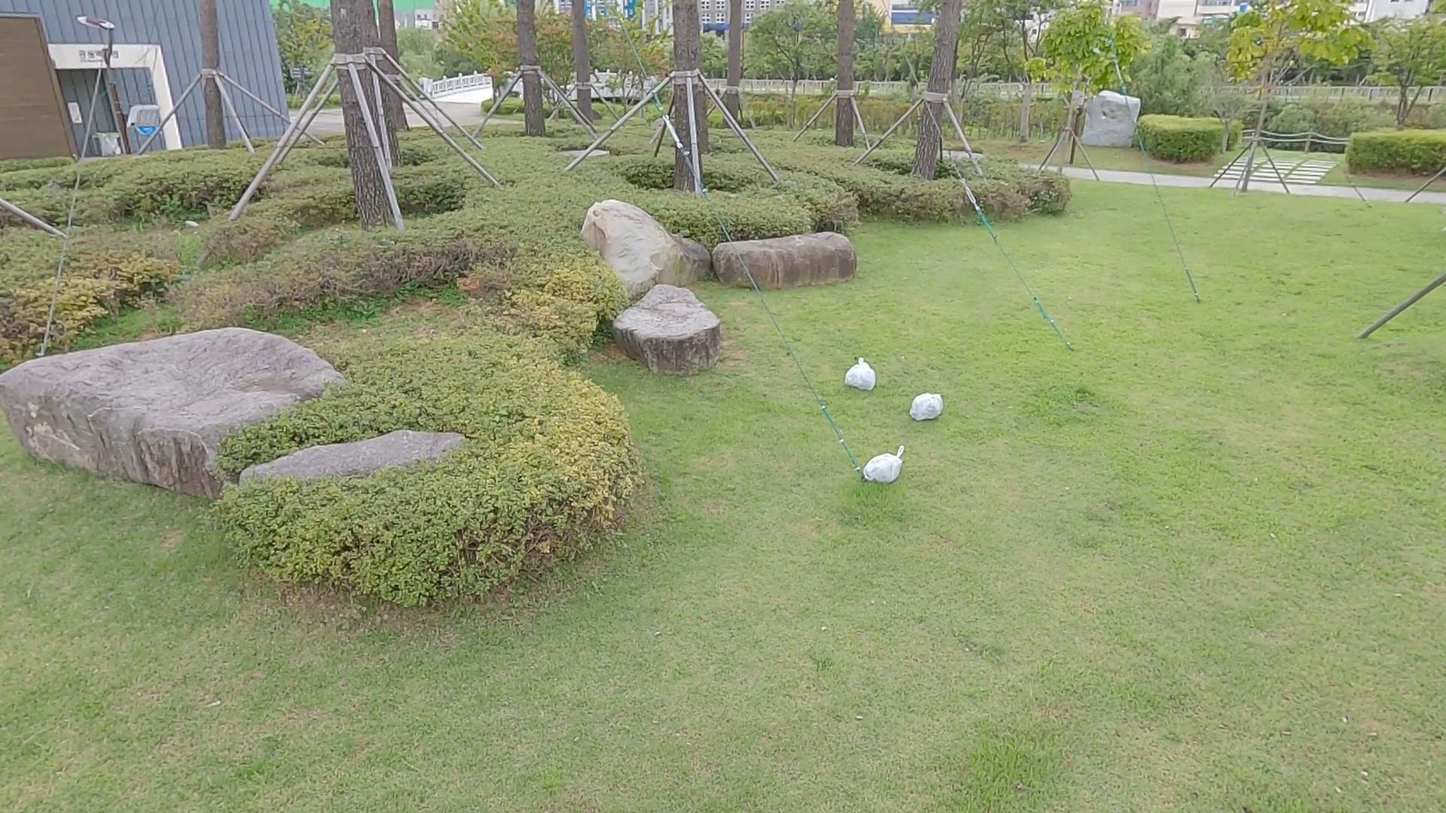trash: (863, 445, 908, 483), (845, 358, 877, 391), (910, 393, 945, 421)
